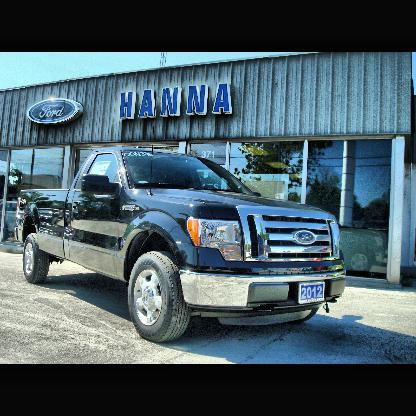Ford F-150 Regular Cab 2012: (15, 145, 347, 347)
